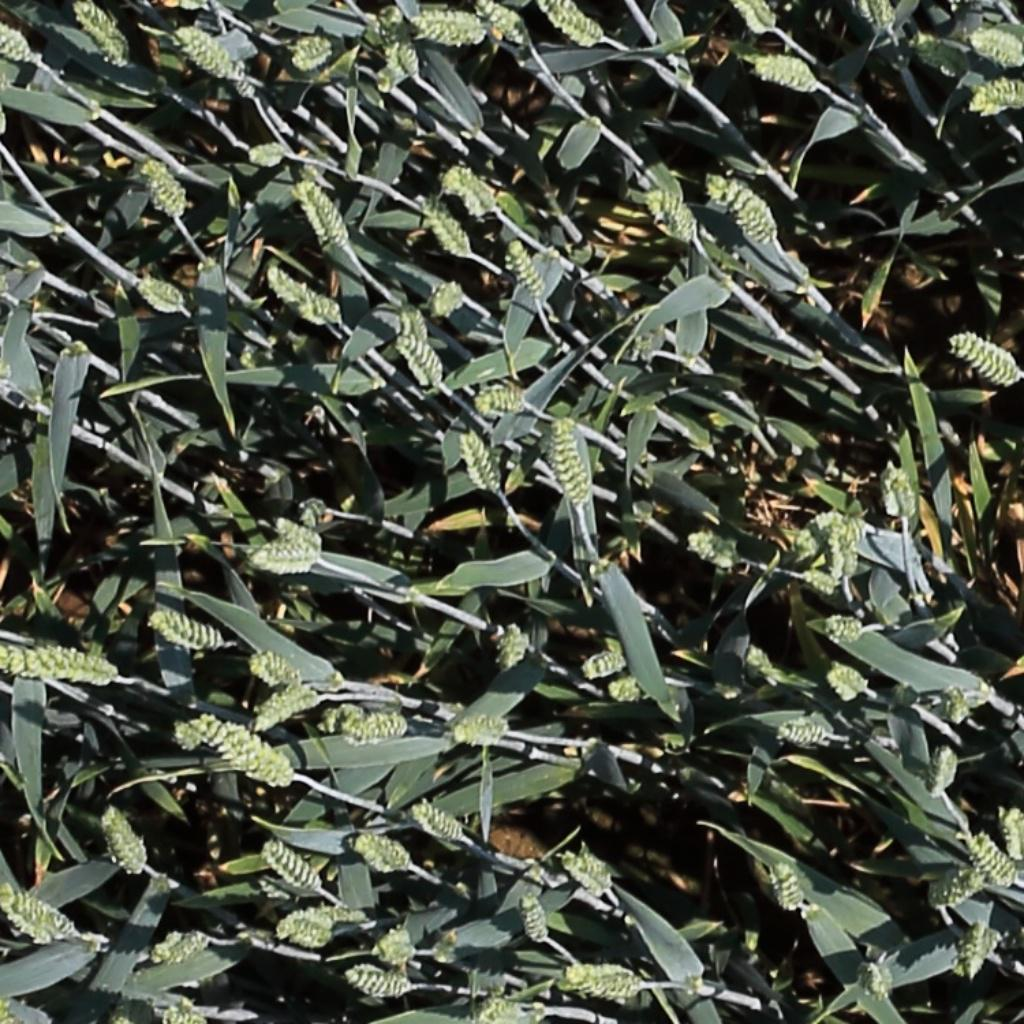0-0: (190, 713, 302, 791), (705, 170, 783, 243), (0, 646, 122, 691), (173, 25, 255, 91), (947, 328, 1024, 398), (0, 883, 77, 945), (293, 173, 353, 252), (264, 264, 342, 322), (415, 187, 476, 259), (405, 7, 494, 54), (557, 961, 652, 1005), (99, 802, 150, 883), (552, 412, 592, 510), (70, 0, 129, 65), (379, 5, 424, 88), (136, 151, 189, 221), (457, 424, 505, 499), (502, 232, 552, 304), (391, 329, 447, 391), (337, 712, 419, 754), (963, 831, 1019, 892), (645, 184, 701, 244), (245, 538, 323, 581), (262, 841, 324, 895), (440, 163, 501, 217), (961, 73, 1024, 125), (343, 963, 422, 1004), (788, 508, 849, 561), (447, 714, 517, 760), (148, 610, 229, 649), (954, 917, 998, 985), (471, 385, 536, 428), (544, 1, 606, 46), (252, 689, 319, 730), (475, 0, 532, 46), (929, 869, 988, 912), (685, 531, 745, 573), (817, 612, 875, 655), (561, 853, 615, 899), (275, 906, 374, 931), (353, 835, 413, 875), (886, 456, 918, 527), (772, 858, 808, 920), (756, 57, 823, 90), (518, 887, 554, 948), (268, 513, 321, 553), (412, 804, 466, 843), (496, 619, 531, 677), (928, 741, 959, 806), (826, 662, 873, 704), (996, 802, 1024, 871), (832, 513, 857, 588), (137, 274, 187, 311), (249, 655, 303, 689), (0, 9, 35, 61), (277, 921, 334, 952), (865, 953, 897, 1008), (776, 722, 835, 751), (318, 705, 368, 739), (970, 31, 1024, 62), (162, 717, 207, 754), (604, 679, 665, 706), (428, 277, 468, 316), (158, 932, 208, 963), (235, 143, 292, 170), (944, 678, 973, 731), (740, 0, 780, 35), (290, 38, 334, 69), (799, 568, 841, 599), (581, 652, 628, 679), (864, 0, 898, 36), (480, 1000, 525, 1024), (0, 995, 29, 1024), (163, 1007, 206, 1024), (45, 349, 58, 393), (109, 1015, 135, 1024)
